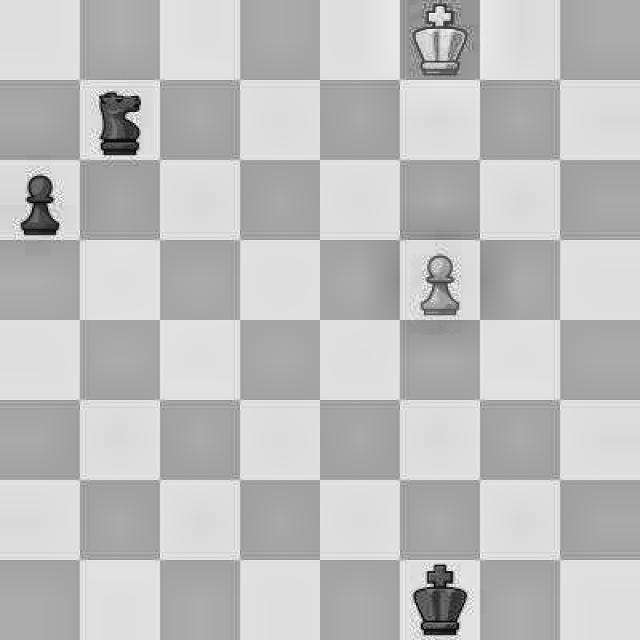Black Knight: (86, 86, 158, 160)
black king: (400, 558, 478, 638)
black pawn: (9, 166, 78, 243)
white king: (393, 0, 473, 70)
white pawn: (404, 238, 474, 322)
